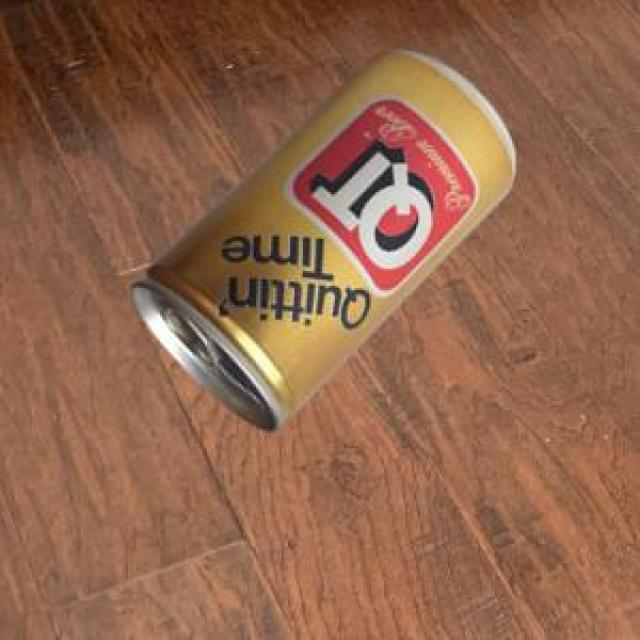Can: (129, 46, 511, 428)
